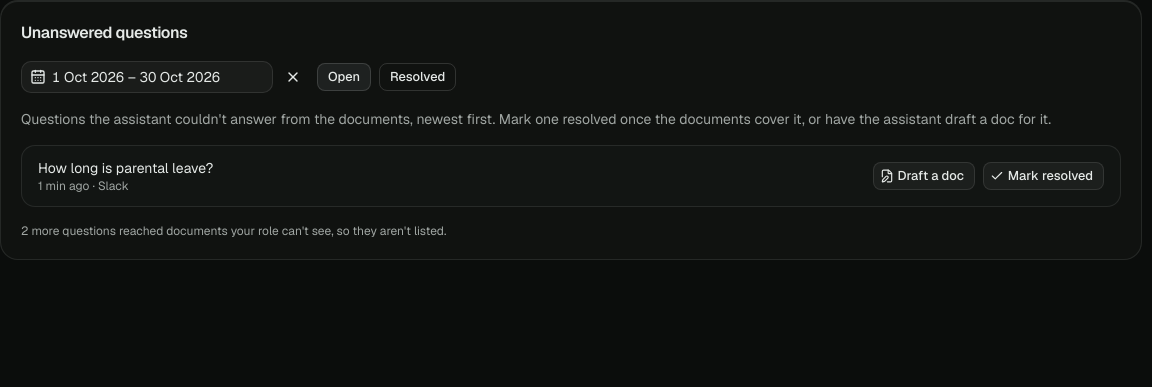
Scenario: NotFoundQuestions › lists open questions, marks one resolved and drafts a doc for one
Expected: the text "How long is parental leave?" is shown, 38,158 -> 213,178
Expected: the text "1 min ago · Slack" is shown, 38,178 -> 129,194
Step 1. Click the button "Draft a doc" → click(924, 176), box 872,162 -> 975,190
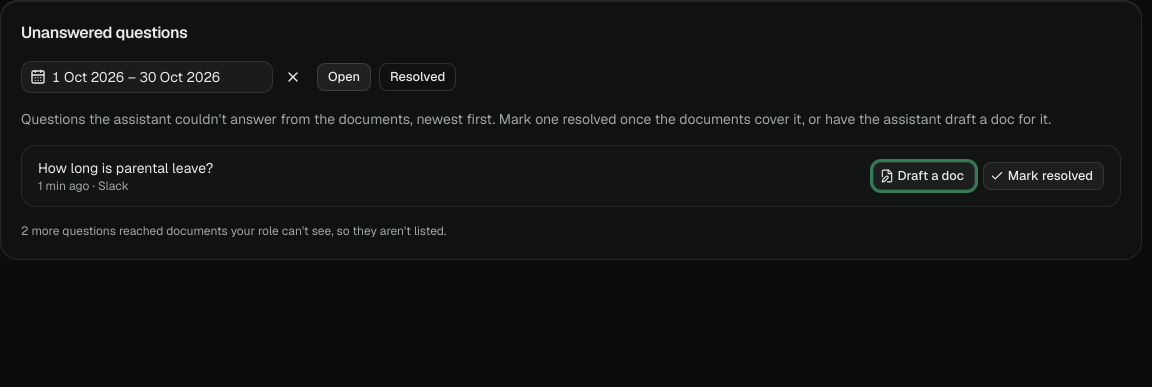
Step 2. Click the button "Mark resolved" → click(1043, 176), box 983,162 -> 1104,190
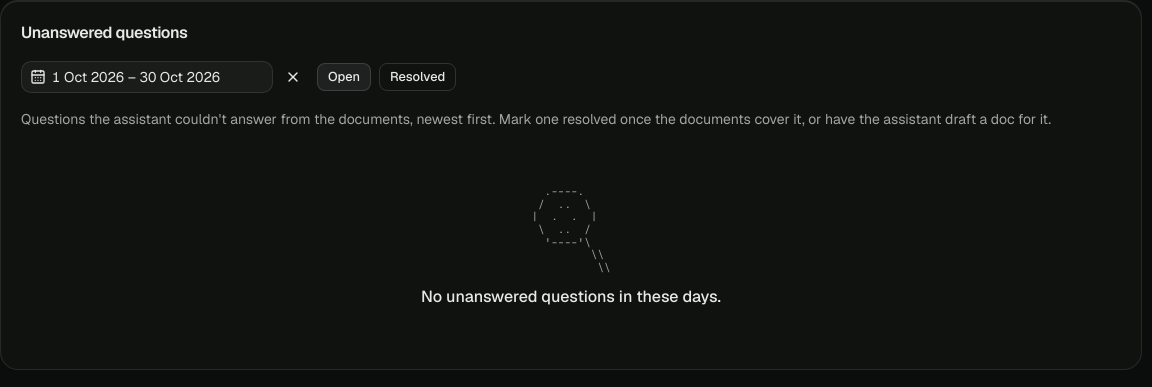
Expected: the heading "No unanswered questions in these days." is shown, 421,286 -> 721,310
